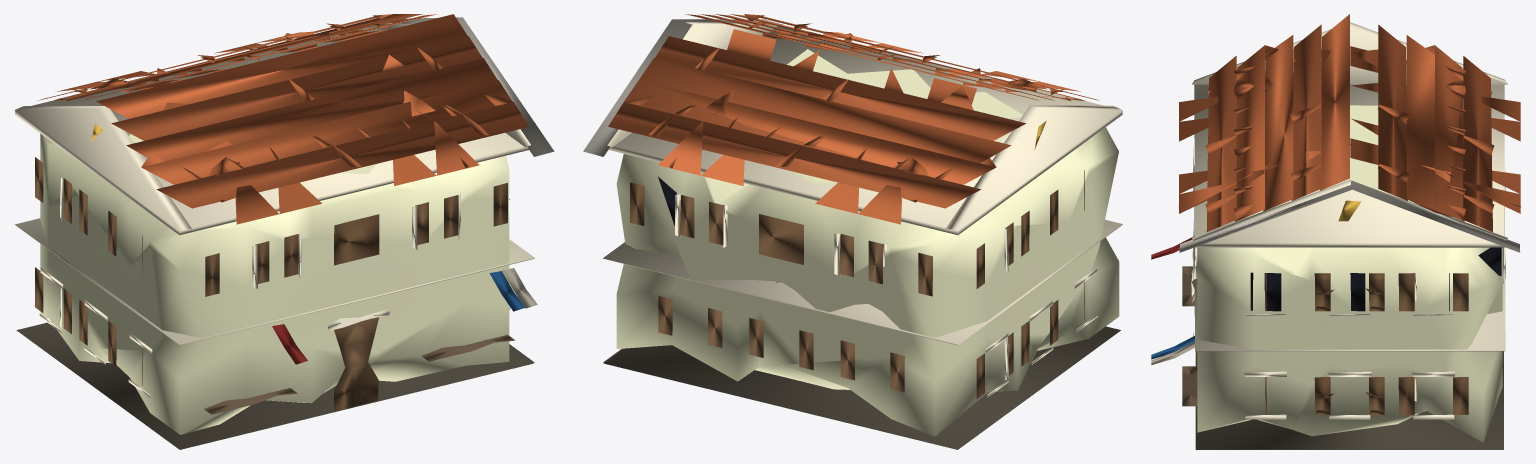
Rendered from home_insula_t1.glb.
3 views of the same model, side by side, from view 1: azimuth 30°, elevation 25°; view 2: azimuth 150°, elevation 25°; view 3: azimuth 270°, elevation 25° (orthographic). The views are drawn at different scales.
Visible parts, largest first — view 1: plaster, terracotta1, terracotta2, cream, terracotta0, wood_dark, stone_dark, marble, wood, cloth_azure, cloth_cream, cloth_red; view 2: plaster, cream, terracotta1, terracotta0, stone_dark, terracotta2, wood_dark, marble; view 3: plaster, terracotta1, cream, terracotta2, terracotta0, stone_dark, wood_dark, marble, dark, wood.
Part boxes in pixels (bbox=[...]): plaster: bbox=[40, 133, 509, 434]; terracotta1: bbox=[37, 14, 529, 208]; terracotta2: bbox=[51, 14, 512, 185]; cream: bbox=[14, 23, 534, 397]; terracotta0: bbox=[57, 14, 497, 224]; wood_dark: bbox=[35, 157, 507, 412]; stone_dark: bbox=[16, 322, 534, 449]; marble: bbox=[387, 17, 554, 156]; wood: bbox=[204, 335, 515, 414]; cloth_azure: bbox=[489, 271, 525, 311]; cloth_cream: bbox=[502, 268, 537, 308]; cloth_red: bbox=[272, 324, 307, 364]; plaster: bbox=[616, 49, 1119, 436]; cream: bbox=[603, 22, 1122, 397]; terracotta1: bbox=[608, 14, 1098, 208]; terracotta0: bbox=[624, 14, 1080, 224]; stone_dark: bbox=[603, 326, 1120, 449]; terracotta2: bbox=[628, 14, 1085, 185]; wood_dark: bbox=[630, 170, 1084, 398]; marble: bbox=[583, 19, 783, 156]; plaster: bbox=[1197, 105, 1502, 442]; terracotta1: bbox=[1178, 24, 1520, 231]; cream: bbox=[1191, 22, 1507, 419]; terracotta2: bbox=[1179, 14, 1520, 221]; terracotta0: bbox=[1179, 35, 1520, 219]; stone_dark: bbox=[1195, 351, 1503, 449]; wood_dark: bbox=[1195, 256, 1503, 414]; marble: bbox=[1179, 181, 1520, 252]; dark: bbox=[1250, 247, 1501, 311]; wood: bbox=[1182, 266, 1197, 406].
Size of the model in its own units: 10.53 by 7.88 by 9.7.
